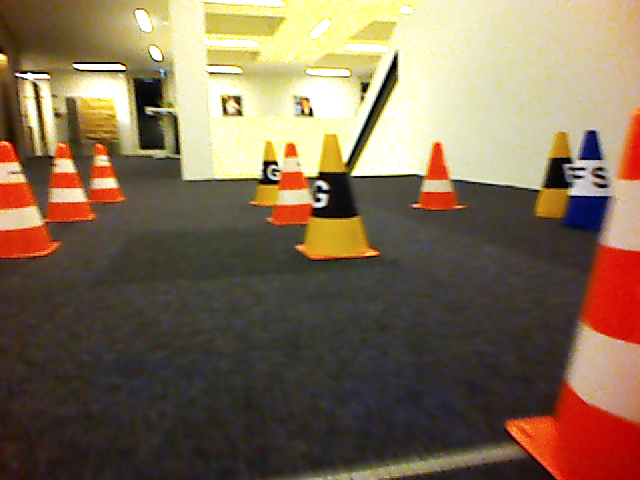orangeconesmall: (1, 138, 61, 258), (44, 141, 96, 223), (267, 141, 313, 226), (85, 142, 128, 204)
yellowcone: (294, 133, 381, 261), (249, 140, 281, 207)
